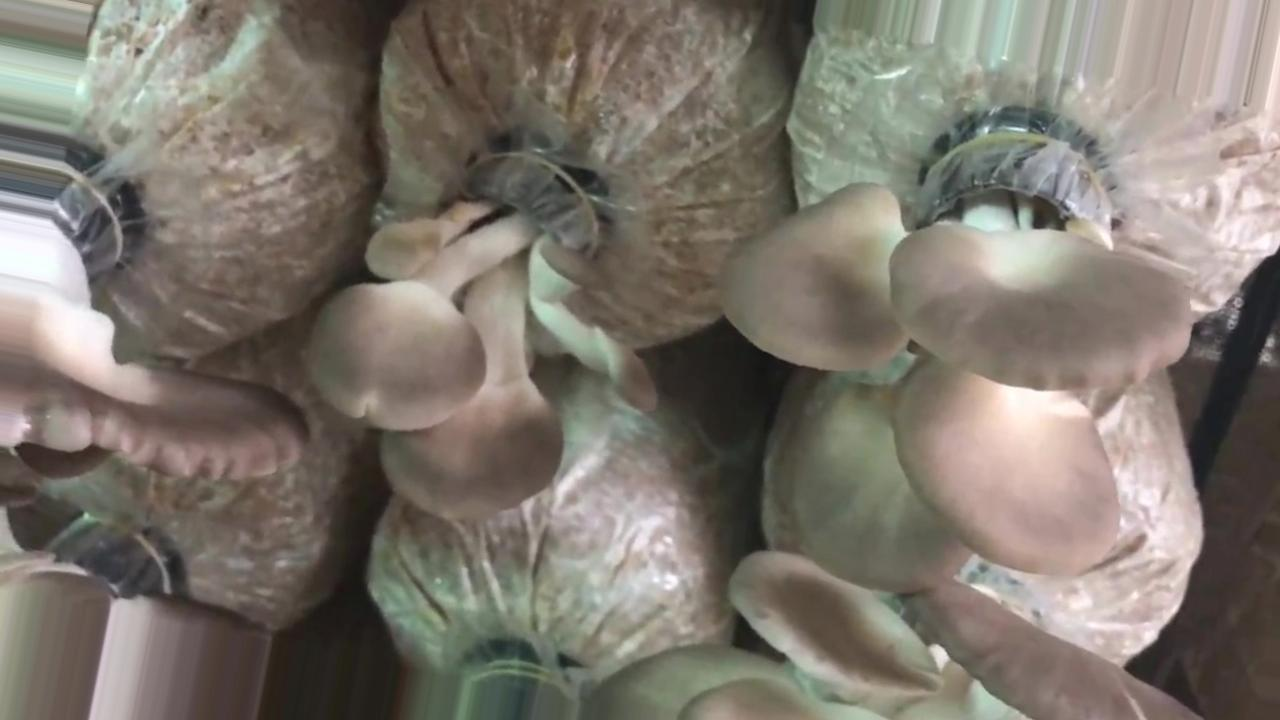nam: (717, 114, 1188, 595), (305, 118, 659, 521), (581, 548, 1196, 720), (1, 385, 299, 490)
